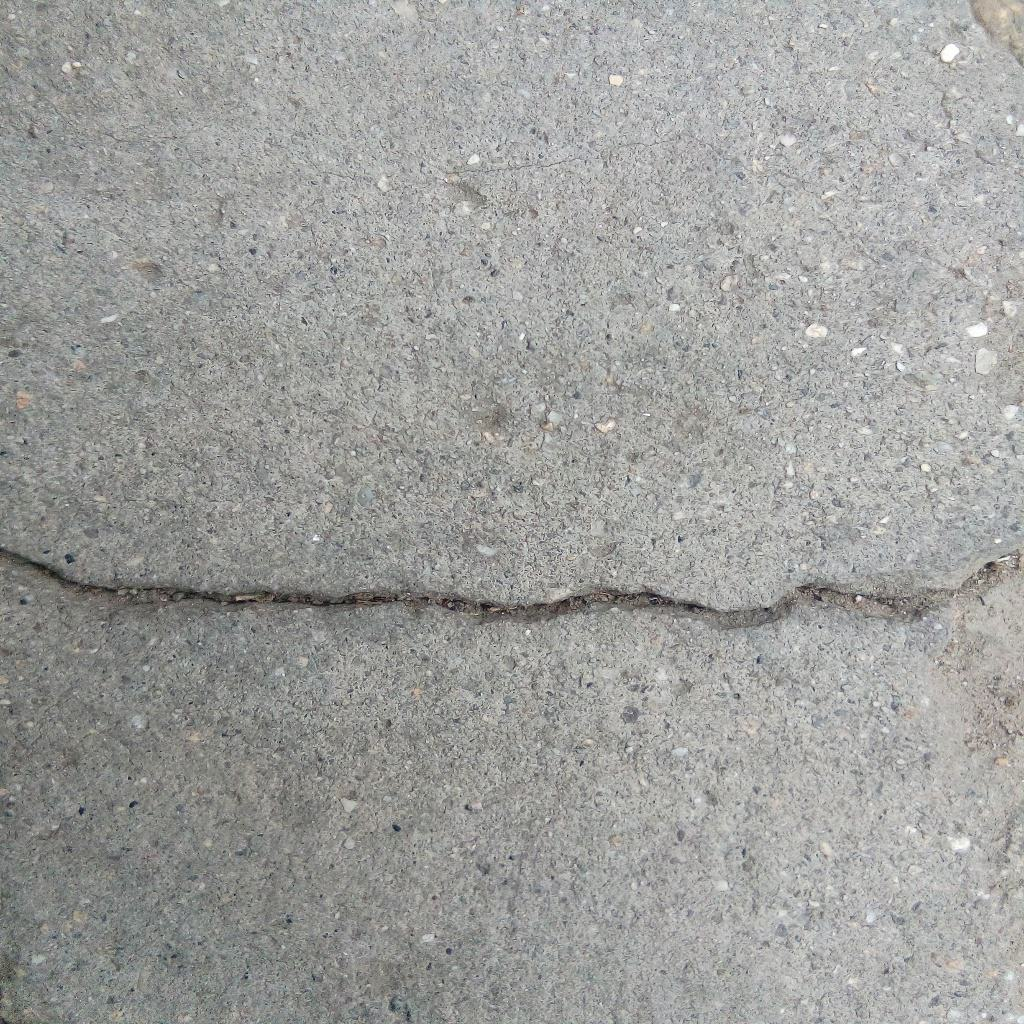Crack: (1, 539, 1024, 633)
